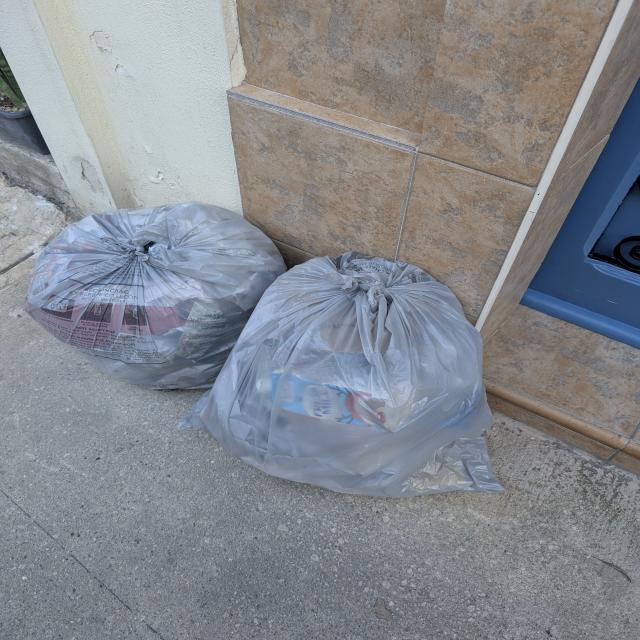Recyclable Material: (176, 251, 506, 497), (27, 201, 288, 391)
